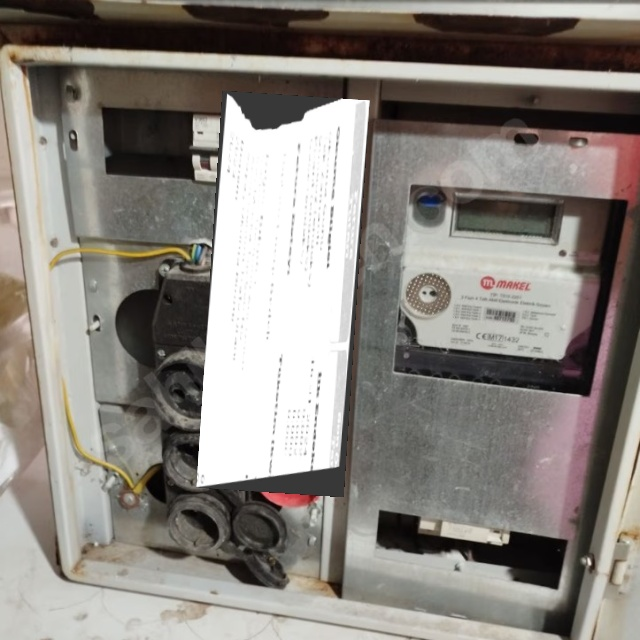electricity-bill: (195, 91, 369, 497)
